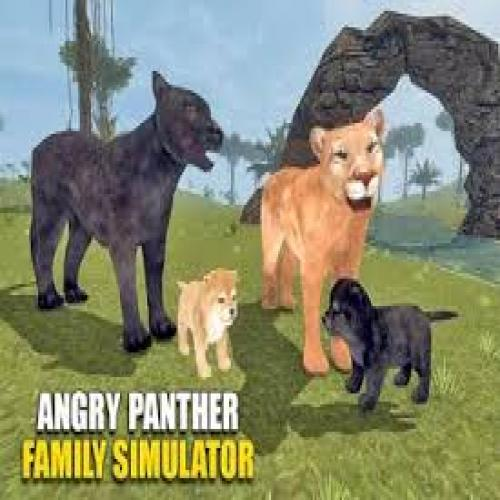panther-endangered: (26, 73, 226, 353), (261, 107, 386, 373), (324, 279, 462, 415), (175, 267, 240, 378)
